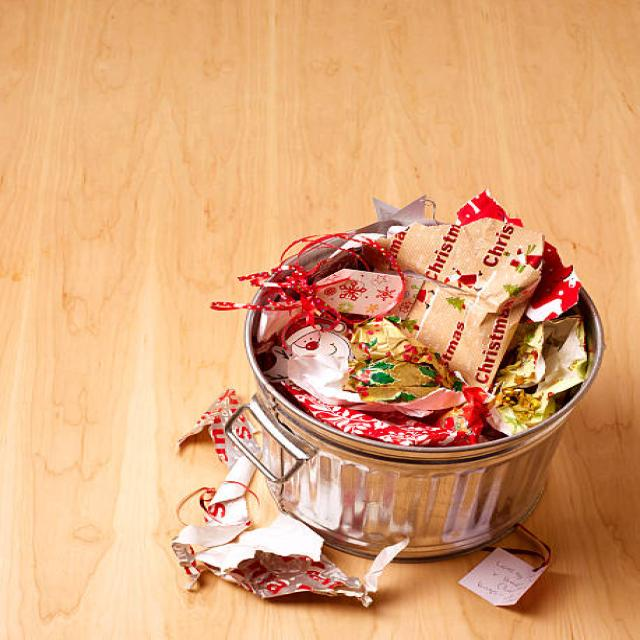paper: (338, 240, 545, 394), (188, 530, 322, 602)
